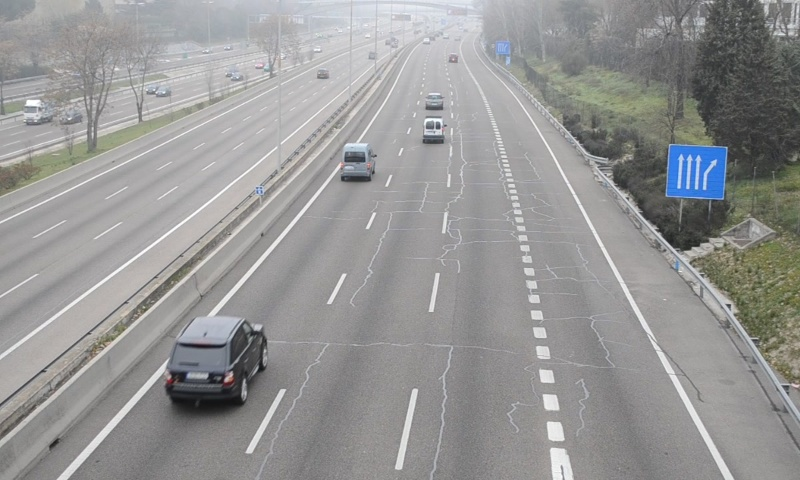car: (164, 318, 266, 403), (423, 92, 444, 110)
van: (340, 142, 376, 178), (422, 115, 444, 145)
